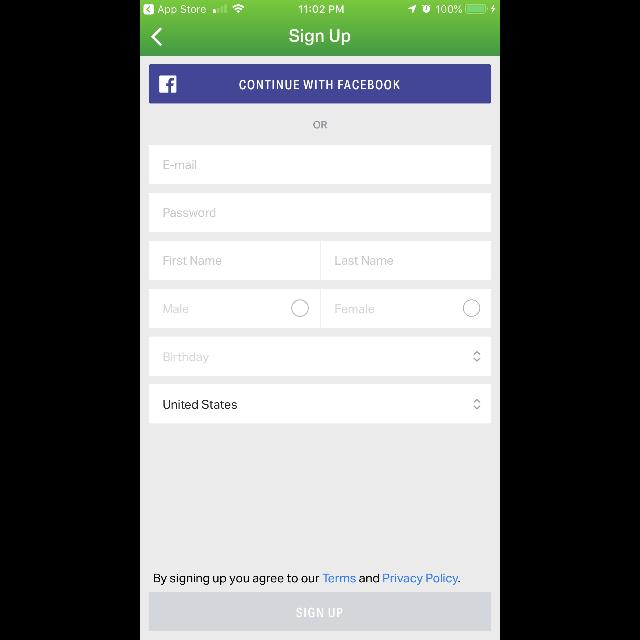checkbox: (291, 299, 309, 317), (462, 299, 480, 317)
icon: (152, 28, 162, 46), (474, 398, 481, 409), (474, 352, 481, 362)
input: (149, 384, 491, 424), (149, 336, 491, 376), (149, 146, 491, 184), (149, 194, 491, 232), (148, 242, 320, 280), (321, 242, 491, 280)
text: (154, 574, 460, 584), (290, 29, 350, 45), (164, 399, 236, 408), (164, 256, 222, 266), (164, 208, 216, 218), (163, 352, 209, 363), (336, 304, 374, 314), (164, 160, 196, 170), (164, 304, 188, 314), (313, 121, 327, 129)
textbutton: (149, 64, 491, 104), (149, 592, 491, 632)
uppertaskbar: (140, 1, 500, 16)
